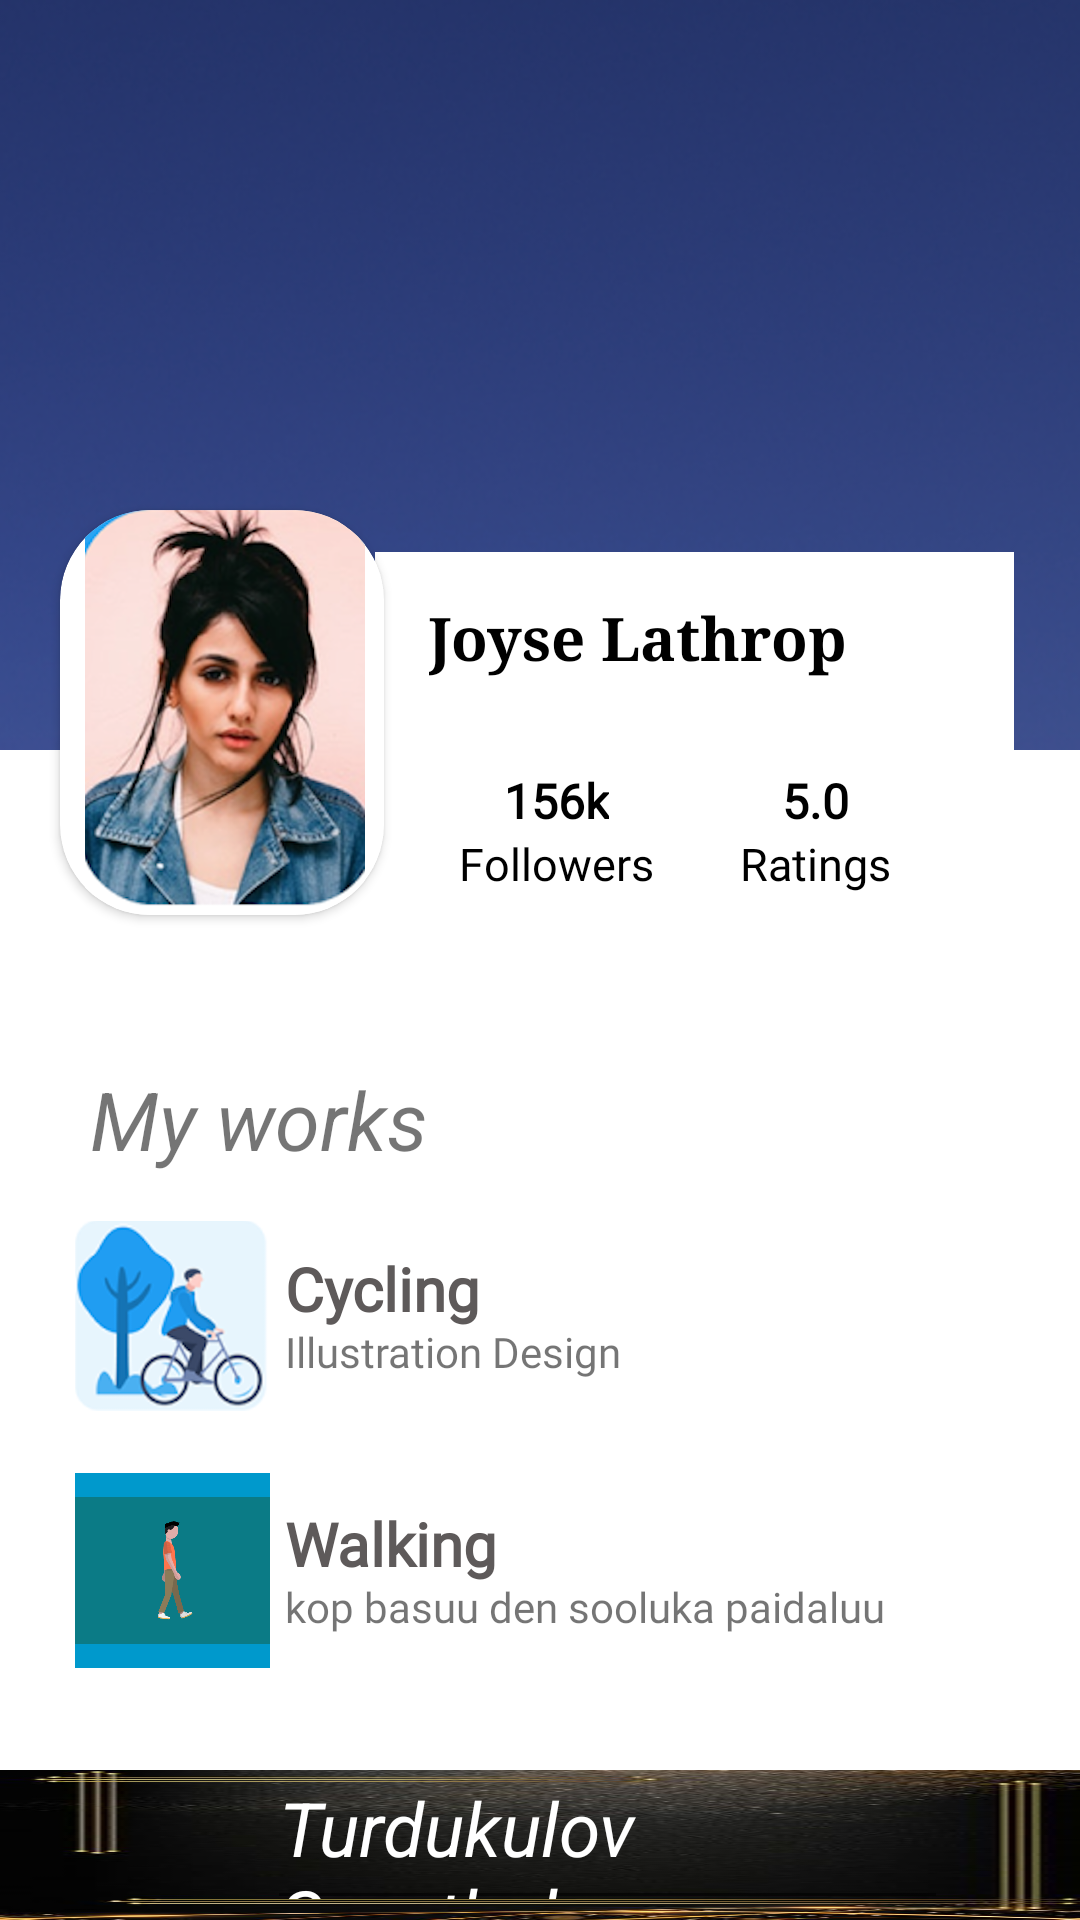

Named icons in this screenshot (1080*1920) and their centers, (x=x, y=y):
velic: (x=170, y=1316)
